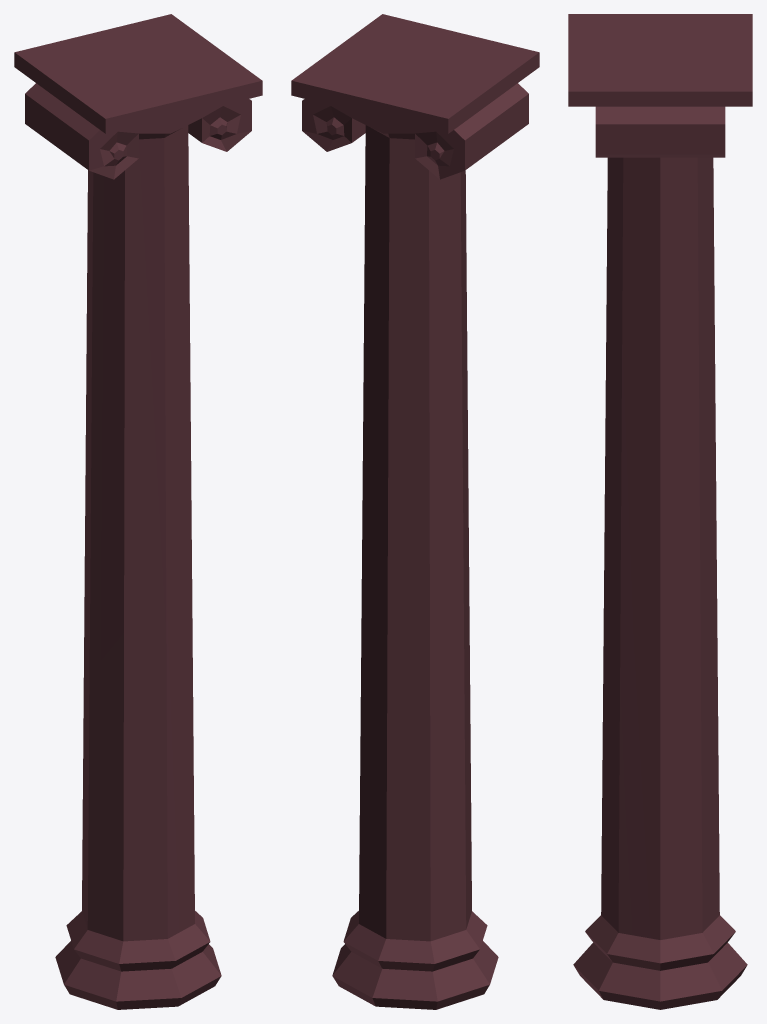
The model's file is SM_Pillar_Ionic_Medium_Empire.fbx.
3 renders of one model, left to right at view 1: azimuth 30°, elevation 25°; view 2: azimuth 150°, elevation 25°; view 3: azimuth 270°, elevation 25°, orthographic.
Parts seen in each view (by area): view 1: SM_Pillar_Ionic_Medium_Empire; view 2: SM_Pillar_Ionic_Medium_Empire; view 3: SM_Pillar_Ionic_Medium_Empire.
Boxes of the visible parts, x1,y1,x2,y2 form: SM_Pillar_Ionic_Medium_Empire: (14, 14, 262, 1009); SM_Pillar_Ionic_Medium_Empire: (291, 14, 539, 1009); SM_Pillar_Ionic_Medium_Empire: (568, 14, 752, 1009).
Size of the model in its own units: 1.12 by 6 by 1.09.
